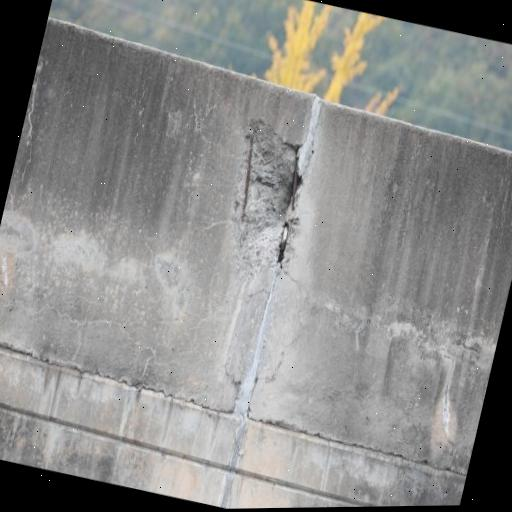exposed_rebar: (241, 130, 255, 222), (291, 157, 299, 211), (256, 176, 274, 188)
spalling: (234, 120, 300, 272)
